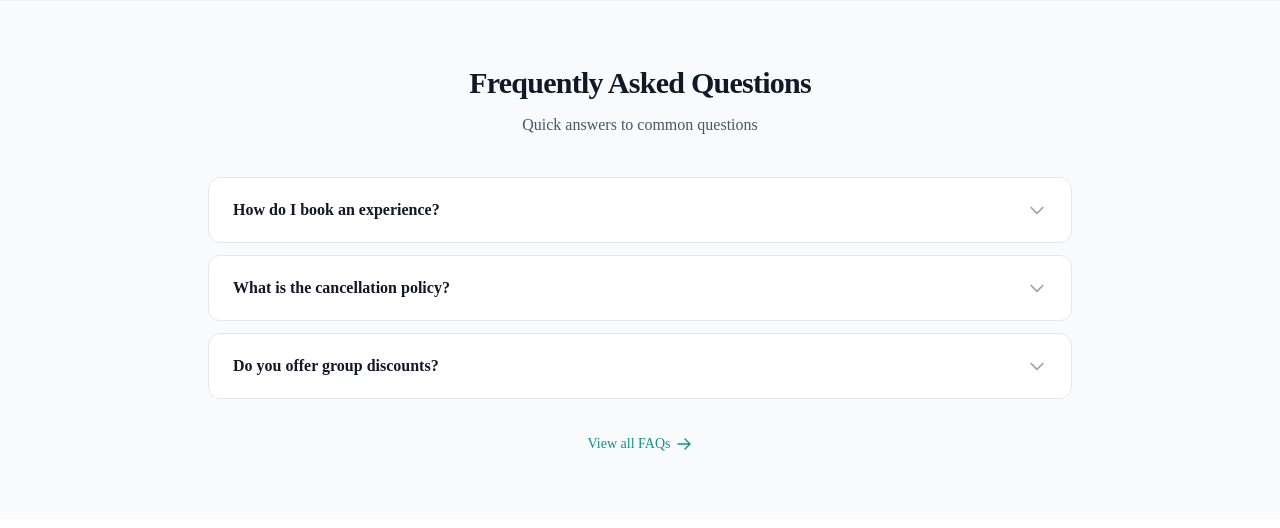
Scenario: AboutFaqSection › collapses FAQ when clicked again
This screenshot has width=1280, height=528.
Click the button "How do I book an experience?": (336, 210) [209,178,1071,242]
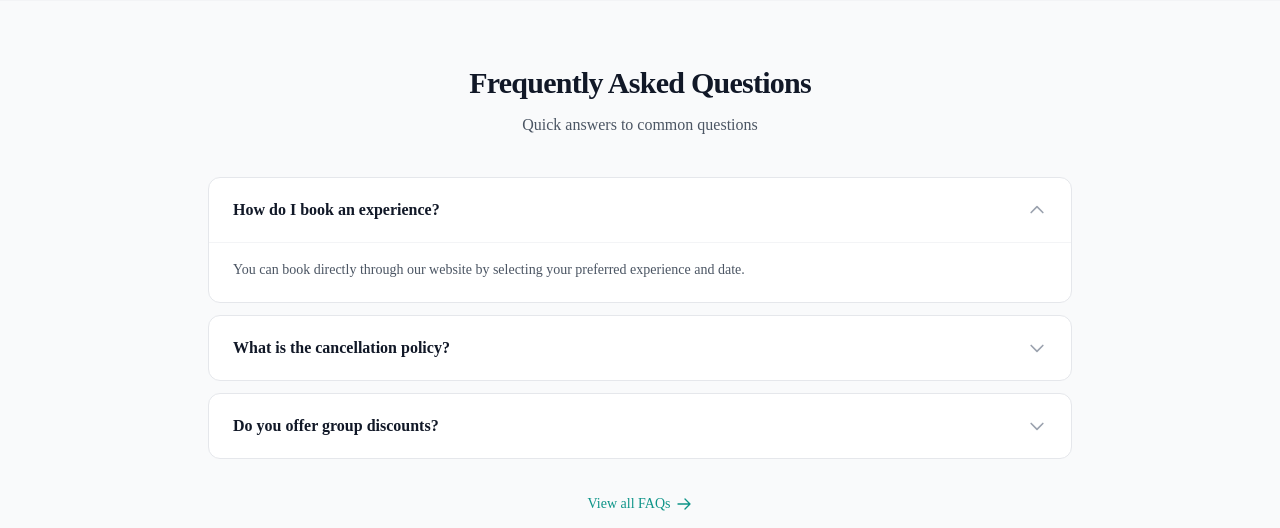
Result: the text "You can book directly through our website" is shown at [233,262,745,277]
Click the button "How do I book an experience?": (336, 210) [209,178,1071,242]
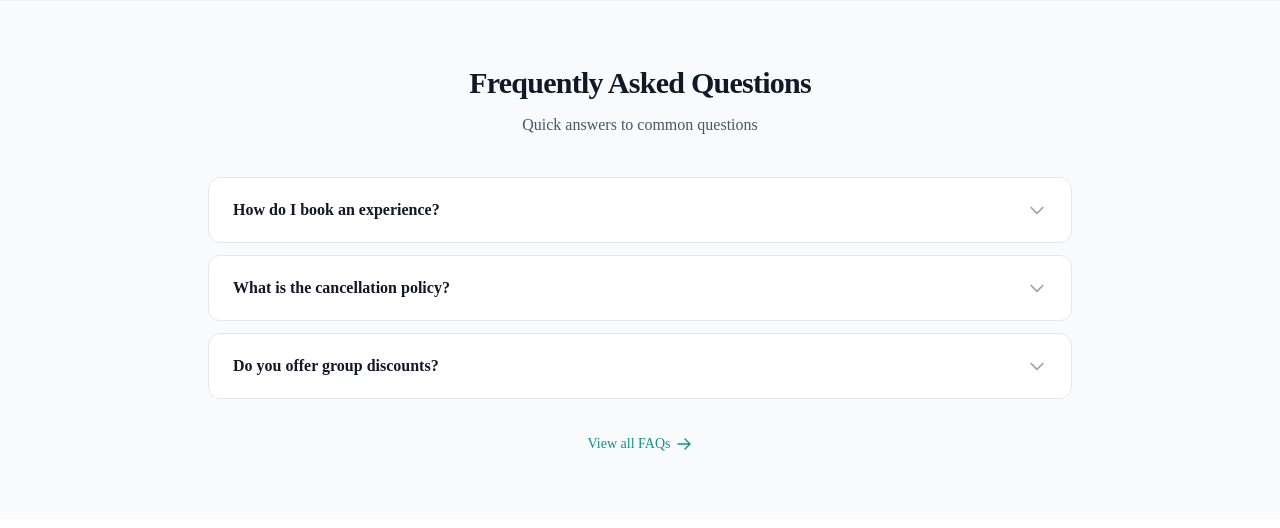
Result: the text "You can book directly through our website" is gone
